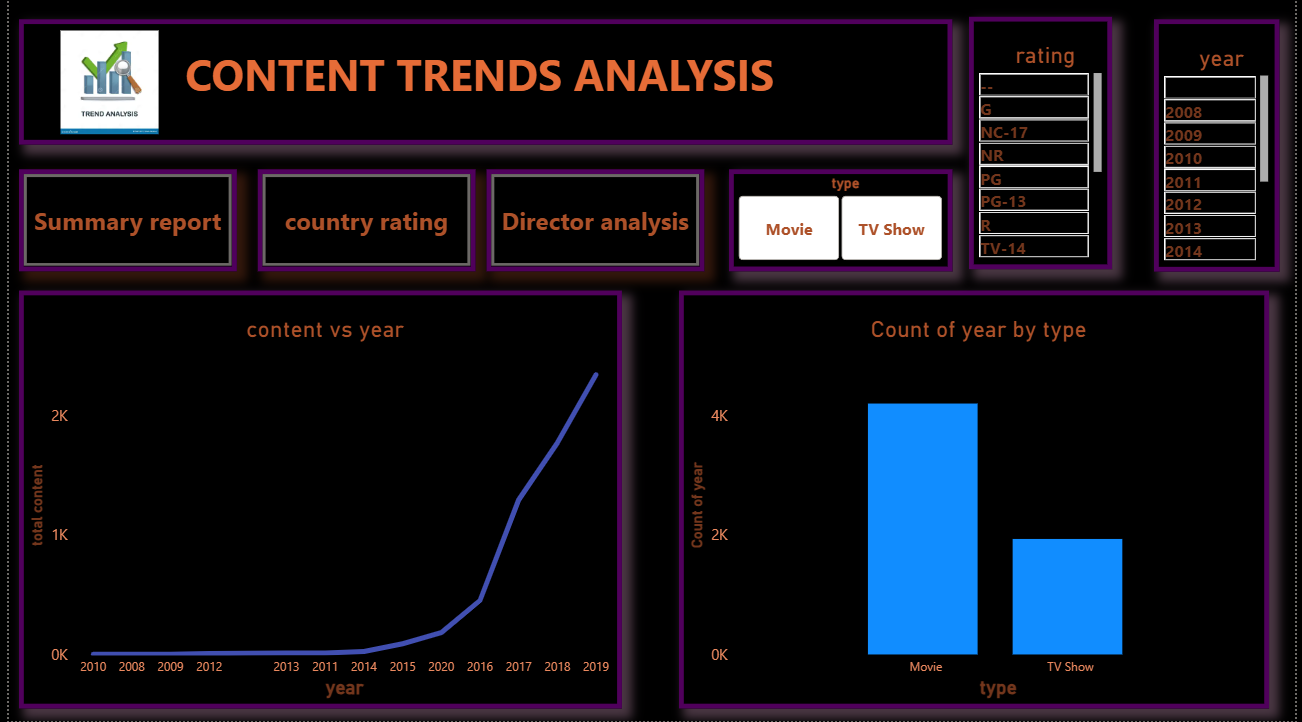

The dashboard page shown, as its layout file describes it:
{"tool":"powerbi","page":{"name":"content trend","canvas":[1280,720],"ordinal":1},"visuals":[{"type":"textbox","box":[9.6,20.6,929,124.9],"z":0},{"type":"image","box":[46.7,32.9,105.7,102.9],"z":1000},{"type":"lineChart","title":" content vs year","fields":{"Y":["Table1.total content"],"Category":["Table1.year"]},"box":[10,290.8,600.1,416.2],"z":2000},{"type":"columnChart","fields":{"Y":["CountNonNull(Table1.year)"],"Category":["Table1.type"]},"box":[667.1,290.8,587.3,416.2],"z":3000},{"type":"listSlicer","fields":{"Values":["Table1.year"]},"box":[1138.9,20.6,124.9,251.1],"z":5000},{"type":"listSlicer","fields":{"Values":["Table1.rating"]},"box":[955.1,19.2,142.7,251.1],"z":6000},{"type":"advancedSlicerVisual","fields":{"Values":["Table1.type"]},"box":[716.3,170.2,222.3,101.5],"z":7000},{"type":"actionButton","box":[9.6,170.2,216.8,101.5],"z":8000},{"type":"actionButton","box":[247,170.2,216.8,101.5],"z":9000},{"type":"actionButton","box":[474.8,170.2,216.8,101.5],"z":10000}]}

Visuals, with their boxes in screenshot pixels (x1, y1, x2, y2), scaled from the page's 1280x720 canvas onto the 1302x722 screenshot:
textbox: detection(10, 21, 955, 146)
image: detection(48, 33, 155, 136)
" content vs year" lineChart: detection(10, 292, 621, 709)
columnChart - CountNonNull(Table1.year) x Table1.type: detection(679, 292, 1276, 709)
listSlicer - Table1.year: detection(1158, 21, 1286, 272)
listSlicer - Table1.rating: detection(972, 19, 1117, 271)
advancedSlicerVisual - Table1.type: detection(729, 171, 955, 272)
actionButton: detection(10, 171, 230, 272)
actionButton: detection(251, 171, 472, 272)
actionButton: detection(483, 171, 703, 272)
